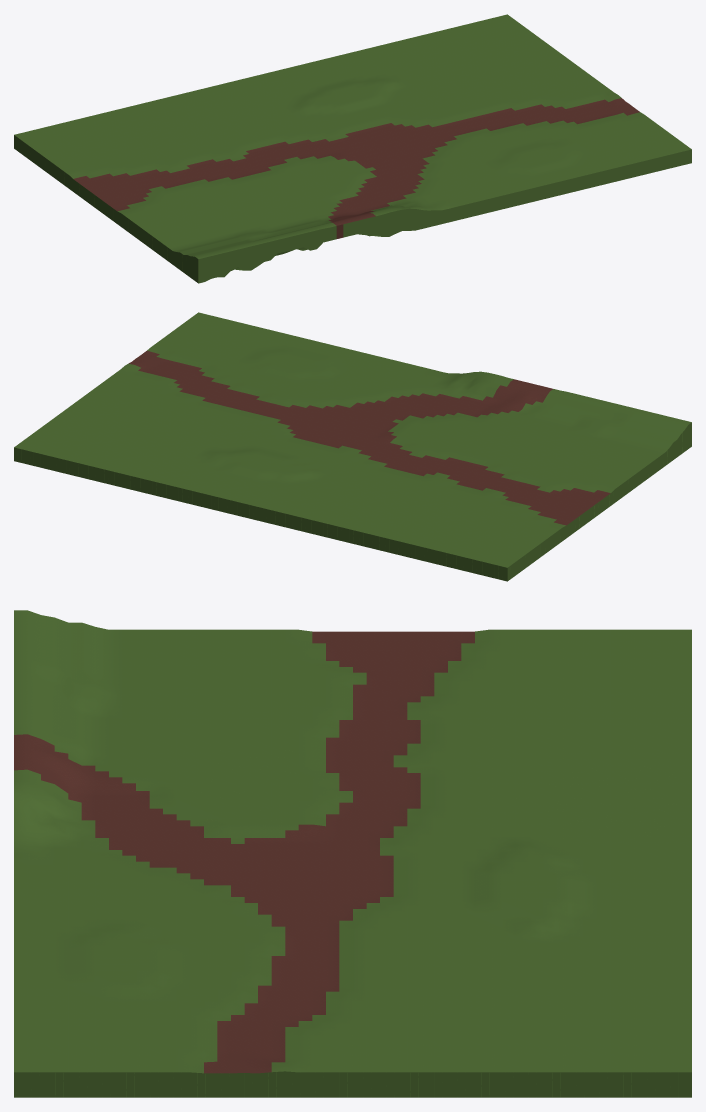
Rendered from MainPlane.fbx.
3 views of the same model, one above another, from view 1: azimuth 30°, elevation 25°; view 2: azimuth 150°, elevation 25°; view 3: azimuth 270°, elevation 25° (orthographic). The views are drawn at different scales.
Visible parts, largest first — view 1: MainPlane; view 2: MainPlane; view 3: MainPlane.
Part boxes in pixels (x1,y1,x2,y2): MainPlane: (14, 14, 691, 283); MainPlane: (14, 312, 691, 581); MainPlane: (14, 610, 691, 1097).
Size of the model in its own units: 66388 by 3248 by 42975.
2 materials, 2 textured.
